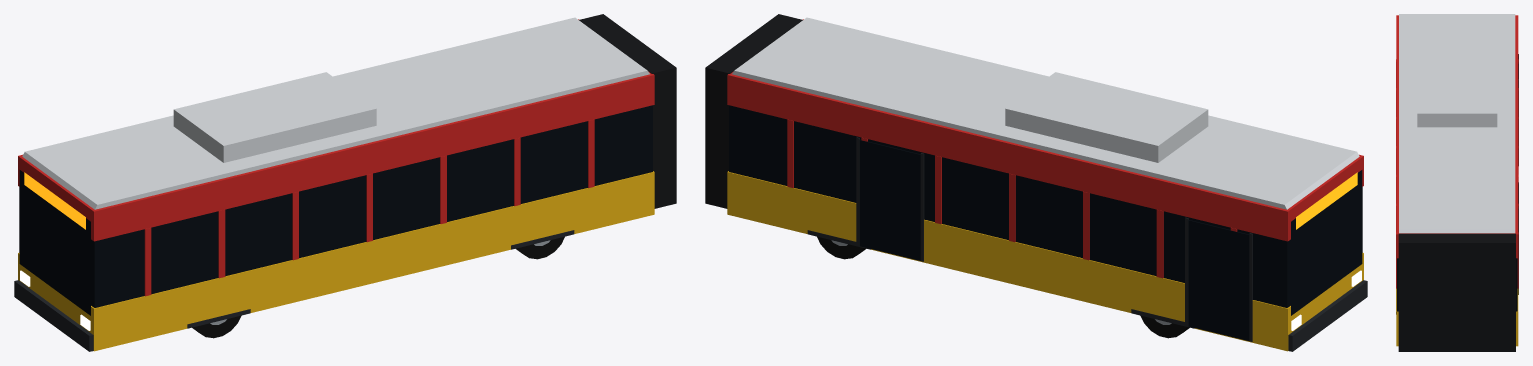
The model's file is bus60f-rapid.glb.
3 renders of one model, left to right at view 1: azimuth 30°, elevation 25°; view 2: azimuth 150°, elevation 25°; view 3: azimuth 270°, elevation 25°, orthographic. The views are drawn at different scales.
Visible parts, largest first — view 1: bus60-front; view 2: bus60-front; view 3: bus60-front.
Part boxes in pixels (x1,y1,x2,y2): bus60-front: [14, 14, 676, 351]; bus60-front: [705, 14, 1367, 351]; bus60-front: [1396, 14, 1518, 351].
Bounding box in the file's own units: 11.54 × 3.33 × 2.61.
